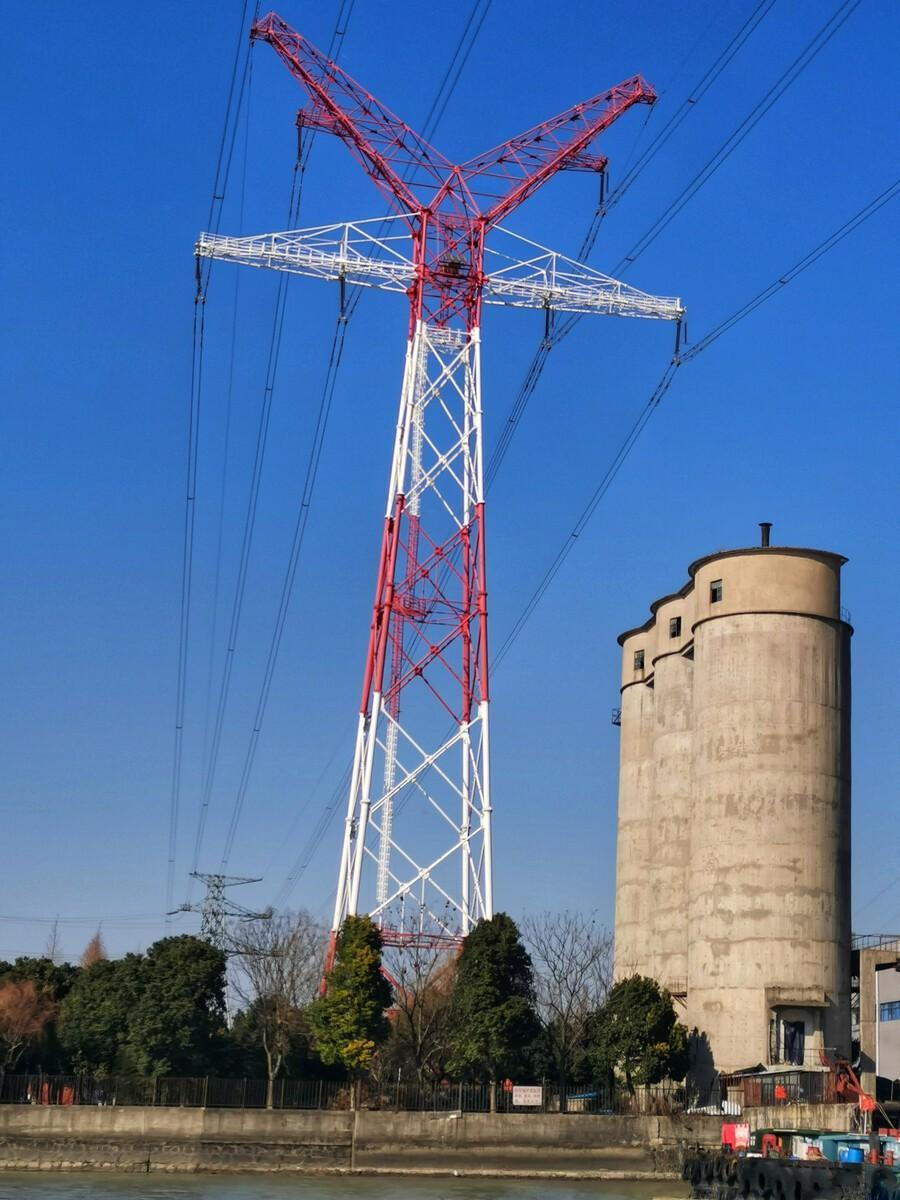power_tower: (207, 20, 687, 1038)
